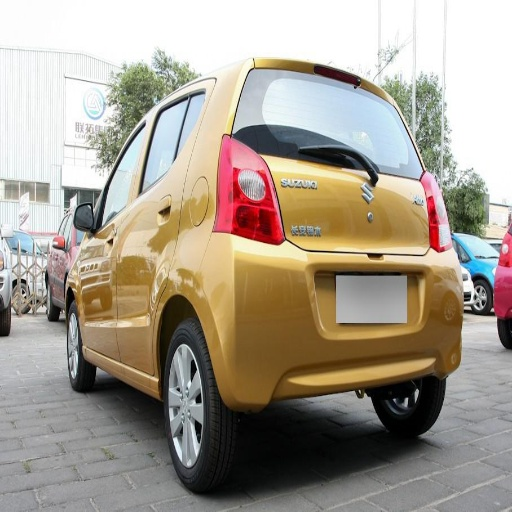back_bumper: (313, 249, 465, 389), (219, 235, 305, 408)
back_glass: (245, 71, 410, 170)
back_left_door: (119, 121, 185, 299)
back_left_light: (214, 135, 281, 242)
trunk: (243, 156, 450, 394)
